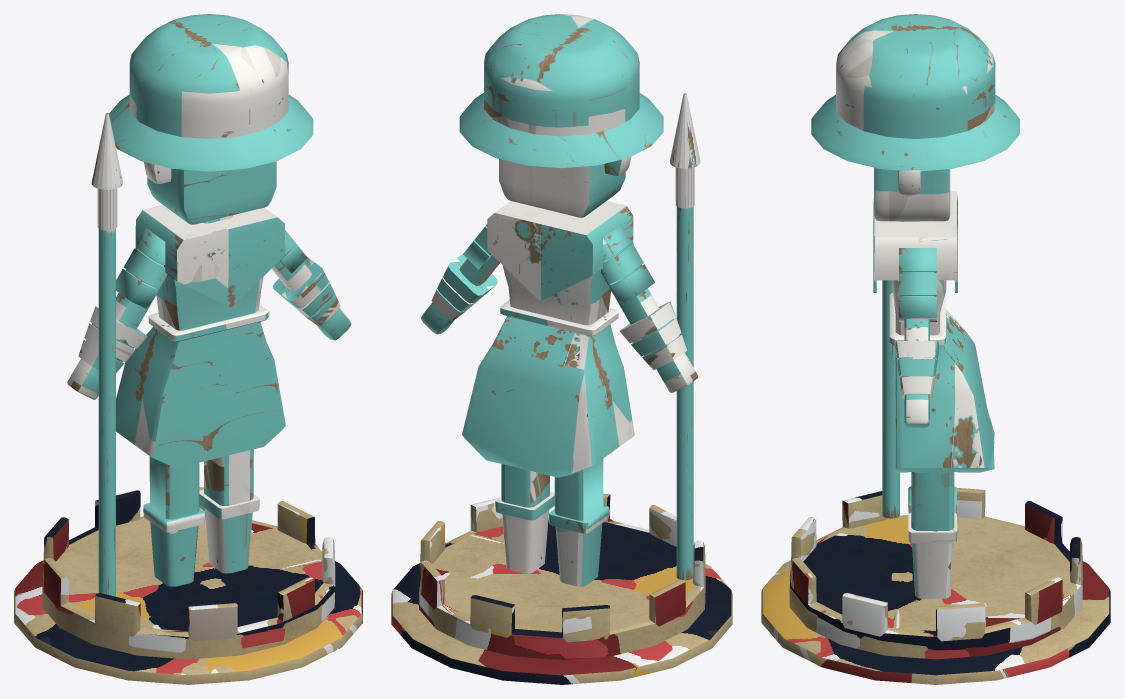
File: MRookFinal.fbx
The picture shows the model from 3 angles, left to right: view 1: azimuth 30°, elevation 25°; view 2: azimuth 150°, elevation 25°; view 3: azimuth 270°, elevation 25°; orthographic projection. The views are drawn at different scales.
Visible parts, largest first — view 1: Cylinder002, Box001, Cylinder003, Box006, Cylinder001, Box002, Box004, Box005, Box003; view 2: Cylinder002, Box001, Cylinder003, Box006, Cylinder001, Box004, Box002, Box005, Box003; view 3: Cylinder002, Cylinder003, Box001, Box006, Box002, Cylinder001, Box003.
Boxes of the visible parts, box(x1,y1,x2,y2) form: Cylinder002: box(14, 487, 362, 684); Box001: box(116, 161, 285, 586); Cylinder003: box(109, 14, 313, 171); Box006: box(135, 205, 285, 307); Cylinder001: box(91, 113, 122, 596); Box002: box(271, 257, 351, 340); Box004: box(67, 276, 166, 399); Box005: box(116, 228, 167, 308); Box003: box(280, 230, 307, 273); Cylinder002: box(391, 493, 732, 684); Box001: box(462, 157, 634, 586); Cylinder003: box(459, 14, 663, 168); Box006: box(487, 201, 633, 301); Cylinder001: box(670, 93, 700, 580); Box004: box(601, 270, 697, 392); Box002: box(421, 253, 499, 334); Box005: box(601, 224, 654, 303); Box003: box(463, 224, 491, 269); Cylinder002: box(761, 488, 1110, 684); Cylinder003: box(811, 14, 1019, 171); Box001: box(874, 167, 994, 598); Box006: box(873, 191, 957, 292); Box002: box(895, 318, 938, 427); Cylinder001: box(882, 280, 899, 518); Box003: box(899, 248, 936, 321).
Size of the model in its own units: 57.91 by 105 by 57.03.
